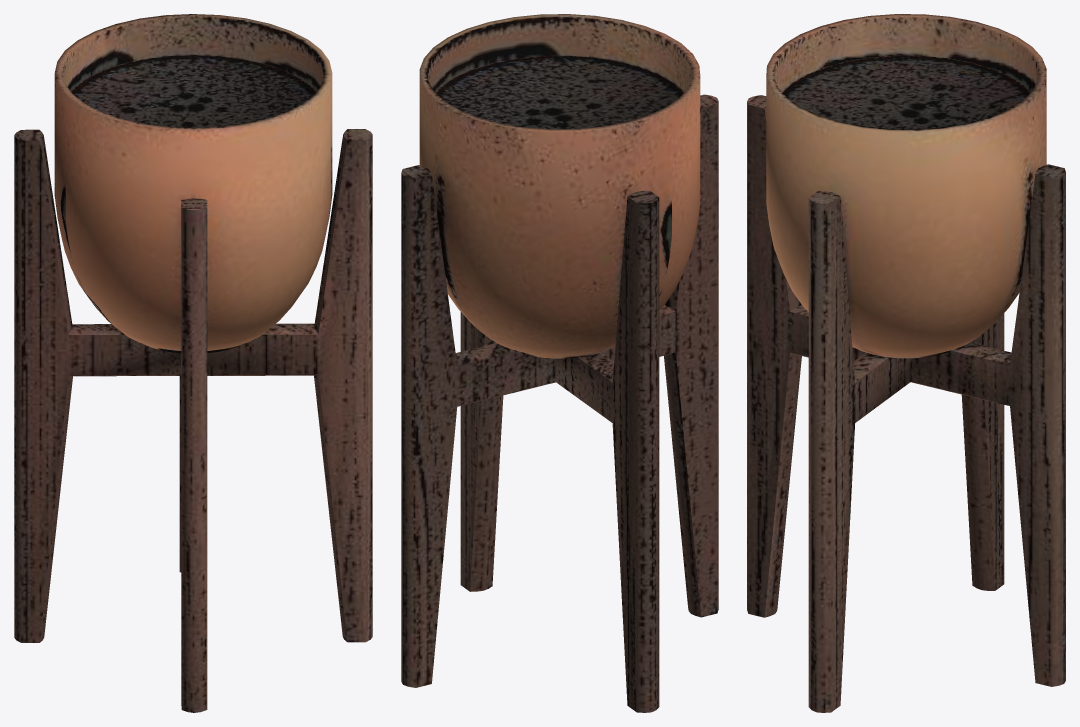
File: plantstand_l.glb
3 renders of one model, left to right at view 1: azimuth 30°, elevation 25°; view 2: azimuth 150°, elevation 25°; view 3: azimuth 270°, elevation 25°, orthographic.
Parts seen in each view (by area): view 1: plant.stand_L; view 2: plant.stand_L; view 3: plant.stand_L.
Boxes of the visible parts, x1,y1,x2,y2 form: plant.stand_L: [14, 14, 372, 712]; plant.stand_L: [401, 14, 718, 712]; plant.stand_L: [747, 14, 1065, 712].
Size of the model in its own units: 0.3784 by 0.7499 by 0.3784.
1 material, 1 textured.
